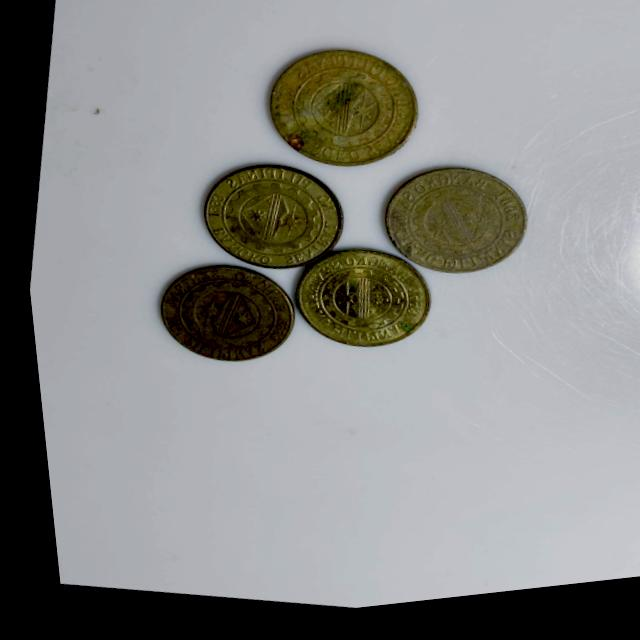25Cent_Old_Back: (259, 45, 432, 189), (366, 155, 538, 299), (192, 157, 344, 288), (136, 260, 294, 382), (281, 243, 427, 367)
